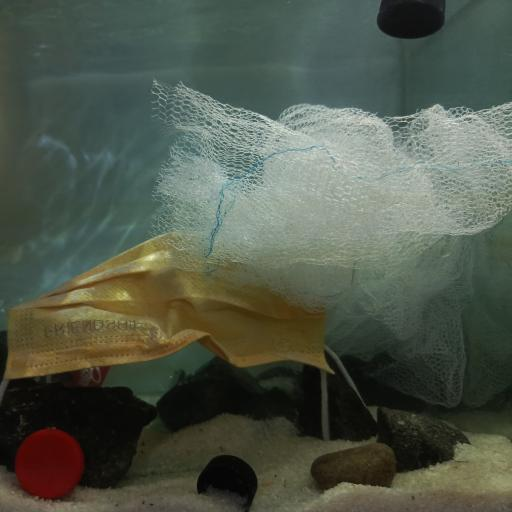bottle_cap: (13, 425, 84, 498), (199, 454, 259, 510), (378, 0, 444, 37)
mask: (0, 229, 349, 402)
net: (143, 73, 512, 411)
plastic_bottle: (2, 329, 188, 396)
